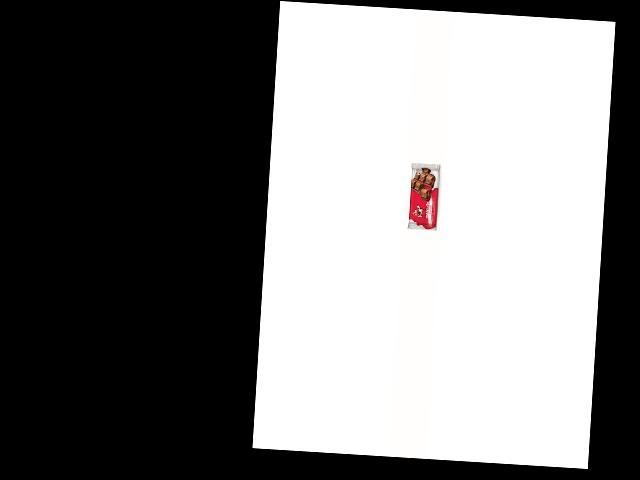chocolate: (405, 161, 446, 232)
